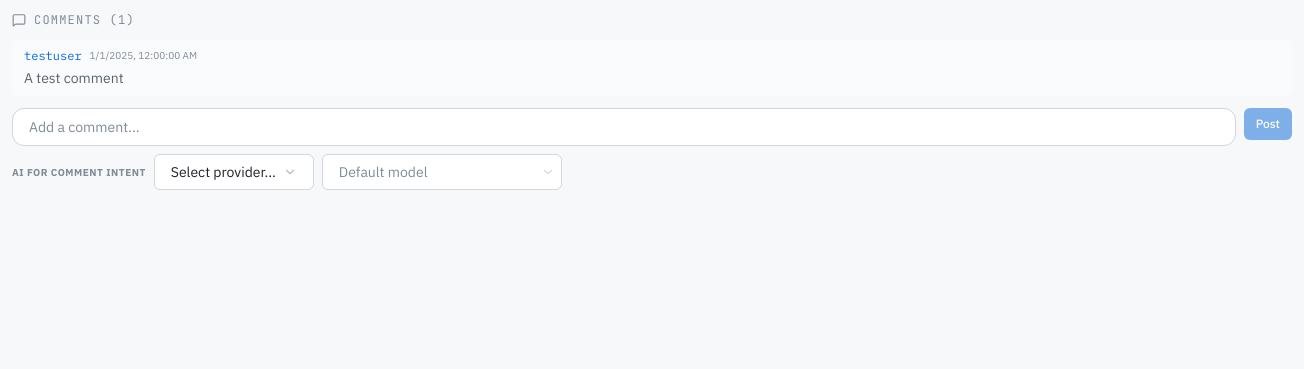
Test: CommentsSection – review suggestion errors › keeps the newest error when an earlier intent request resolves late
This screenshot has width=1304, height=369.
Type "first comment" into the text box with placeholder "Add a comment...". click: [624, 127]
box: [12, 108, 1236, 146]
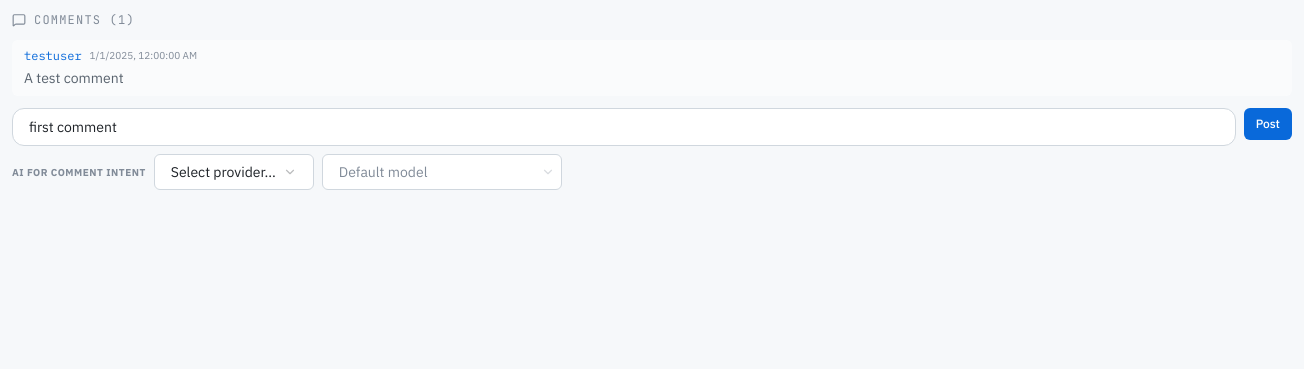
Click the button "Post". click: [1268, 124]
box: [1244, 108, 1292, 140]
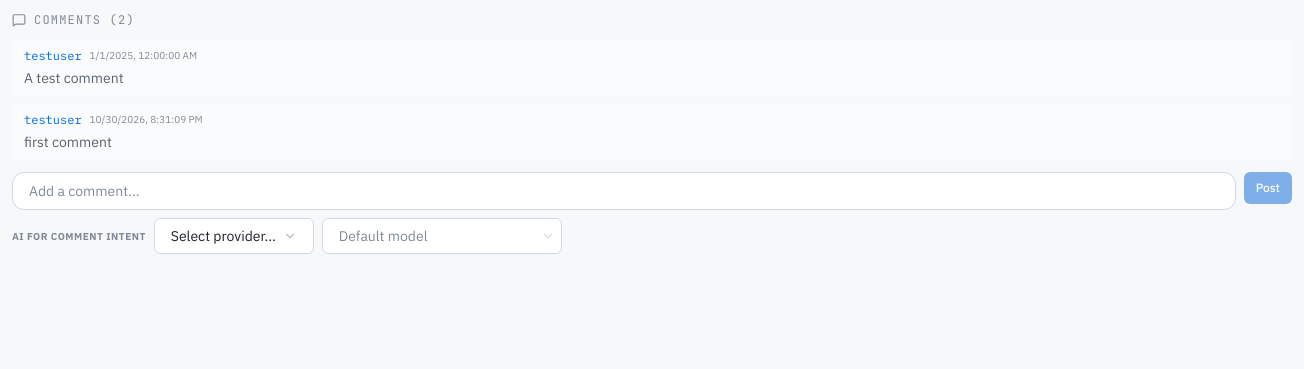
Type "second comment" into the text box with placeholder "Add a comment...". click: [624, 191]
box: [12, 172, 1236, 210]
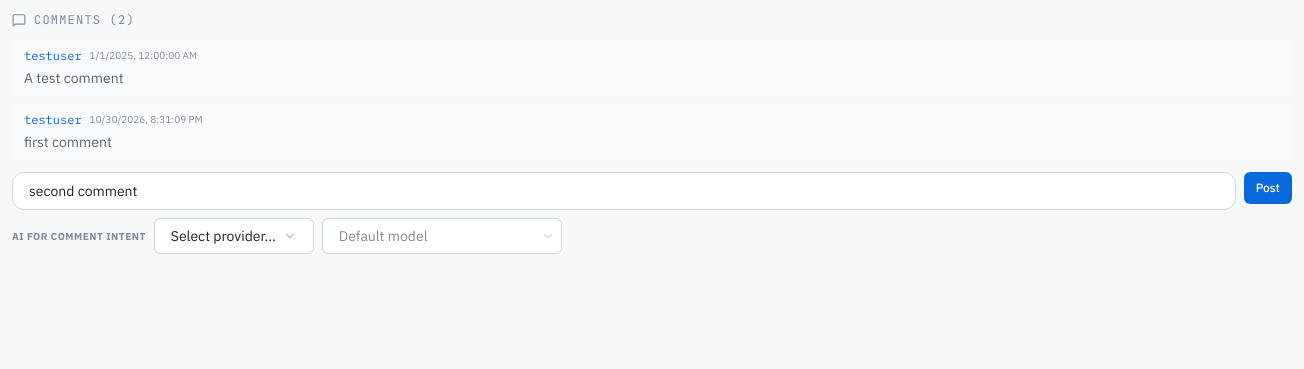
Click the button "Post". click: [1268, 188]
box: [1244, 172, 1292, 204]
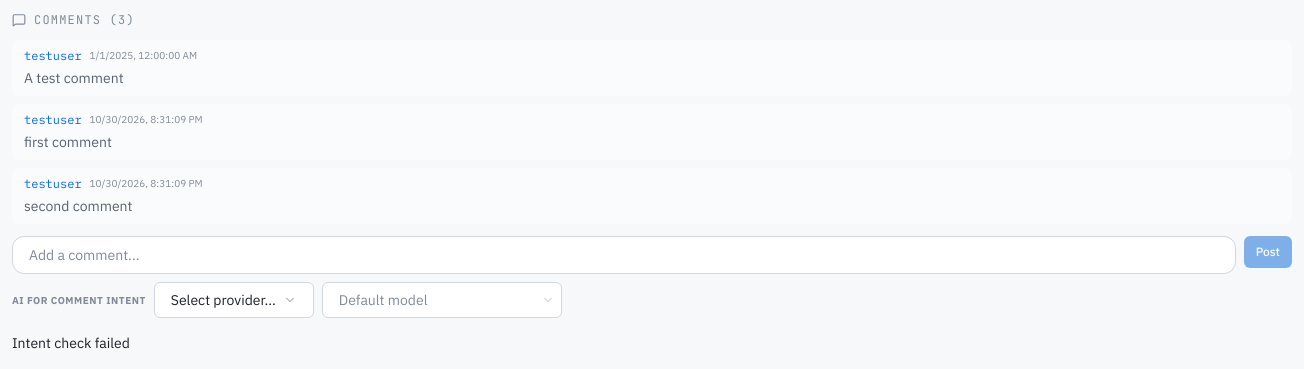
Expected: the message reads "Intent check failed", [12, 334, 130, 352]
